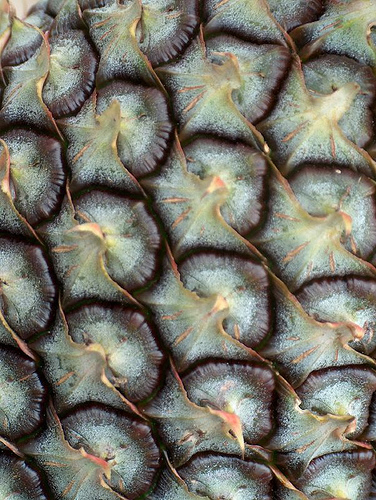pineapple: (0, 0, 374, 498)
